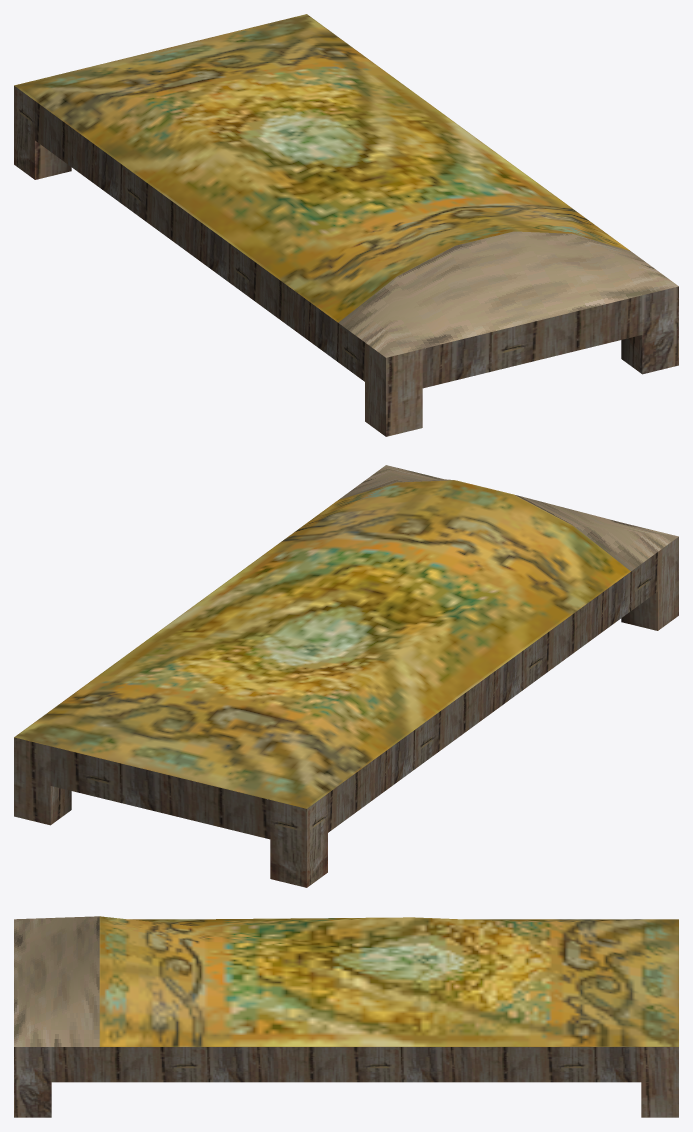
Rendered from M5_Bed01.glb.
3 views of the same model, one above another, from view 1: azimuth 30°, elevation 25°; view 2: azimuth 150°, elevation 25°; view 3: azimuth 270°, elevation 25° (orthographic). The views are drawn at different scales.
Visible parts, largest first — view 1: M5_BED01; view 2: M5_BED01; view 3: M5_BED01.
Part boxes in pixels (bbox=[...]): M5_BED01: bbox=[14, 14, 678, 436]; M5_BED01: bbox=[14, 465, 678, 887]; M5_BED01: bbox=[14, 916, 678, 1117].
Bounding box in the file's own units: 1 × 0.416 × 2.2.
Materials: 3 (3 with a texture image).
